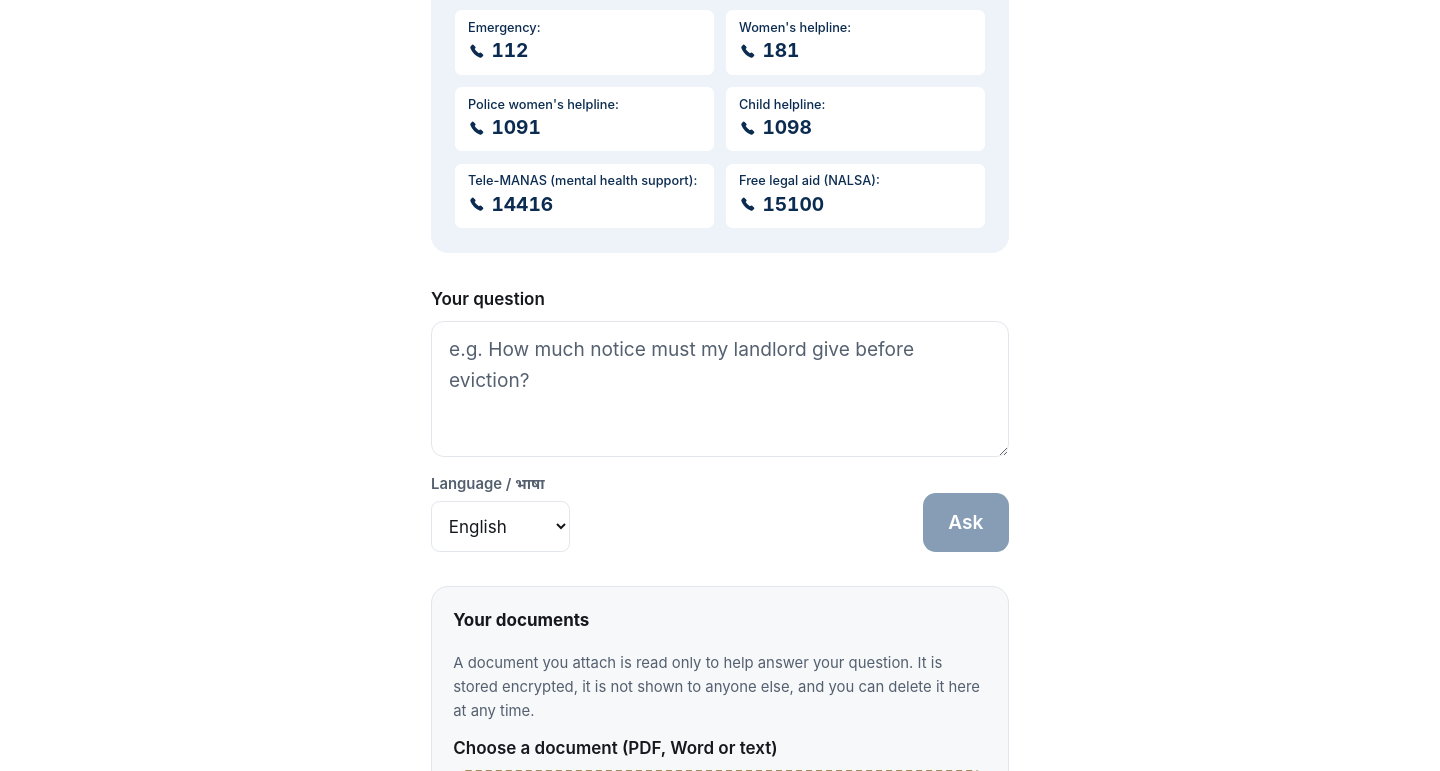
Test: HomePage › moves focus to the hoisted crisis box, not to the legal analysis
(page scrolled)
Type "q" into the text box labelled "Your question" at (720, 388), box [431,320,1009,456]
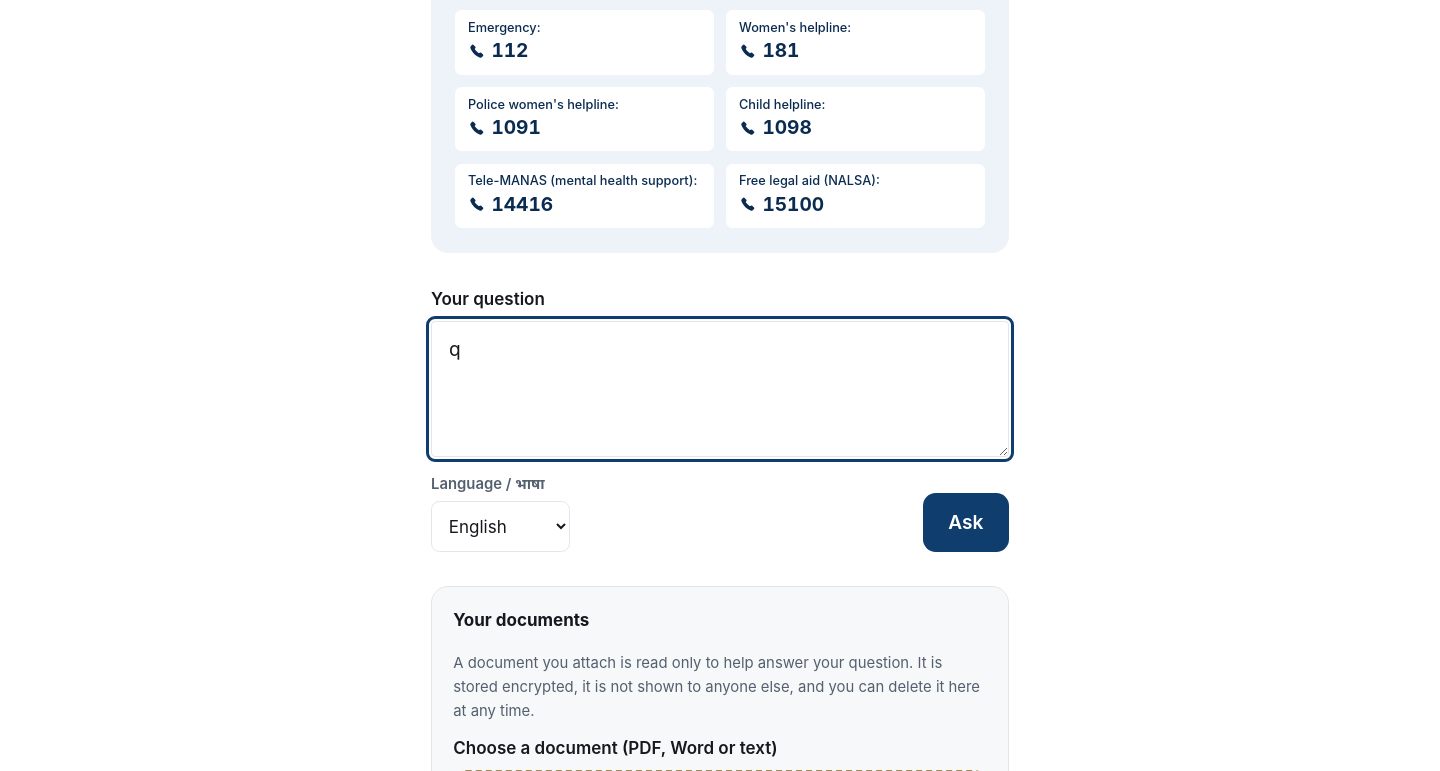
Click the button "Ask" at (966, 522), box [923,493,1009,552]
(page scrolled)
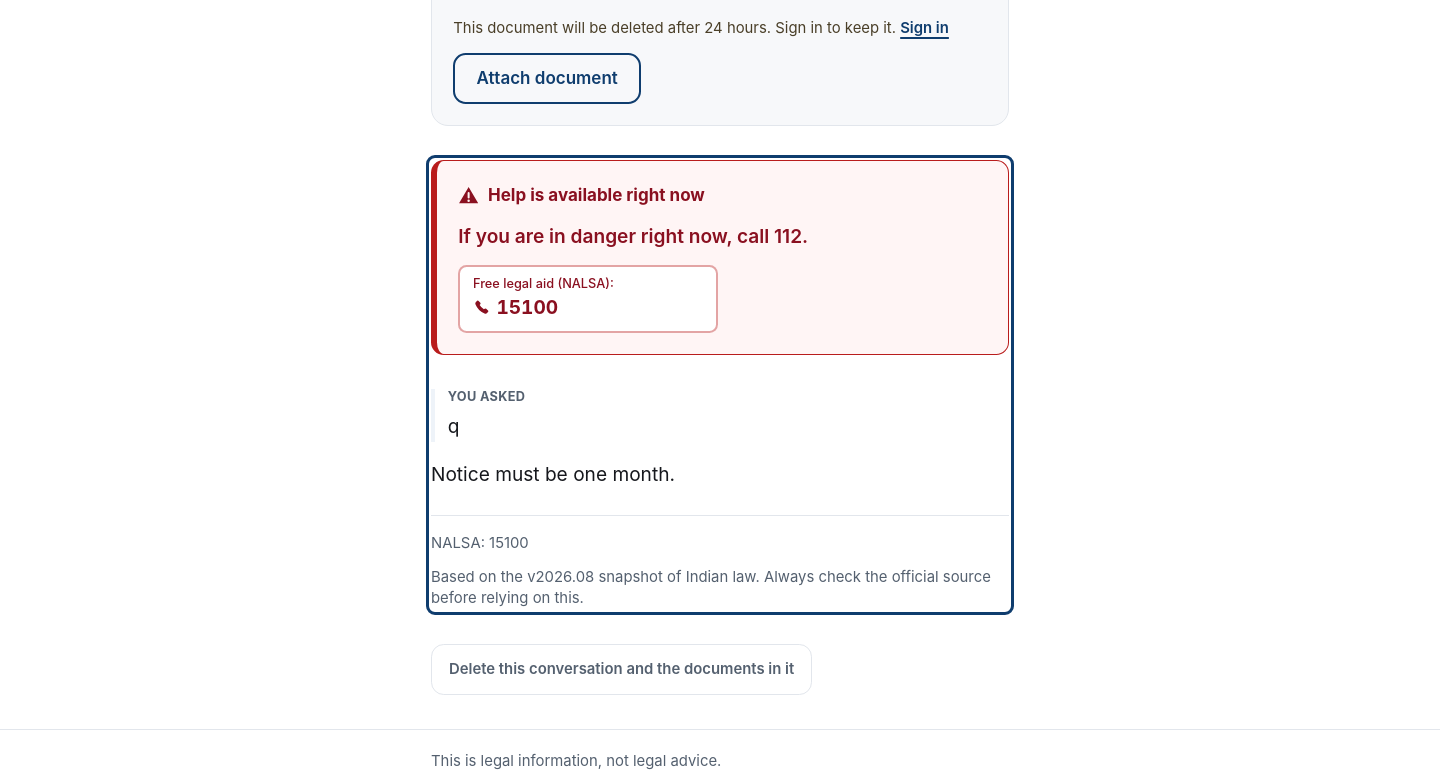
expect the message with test id "crisis" is shown: met, box [431,160,1009,355]
